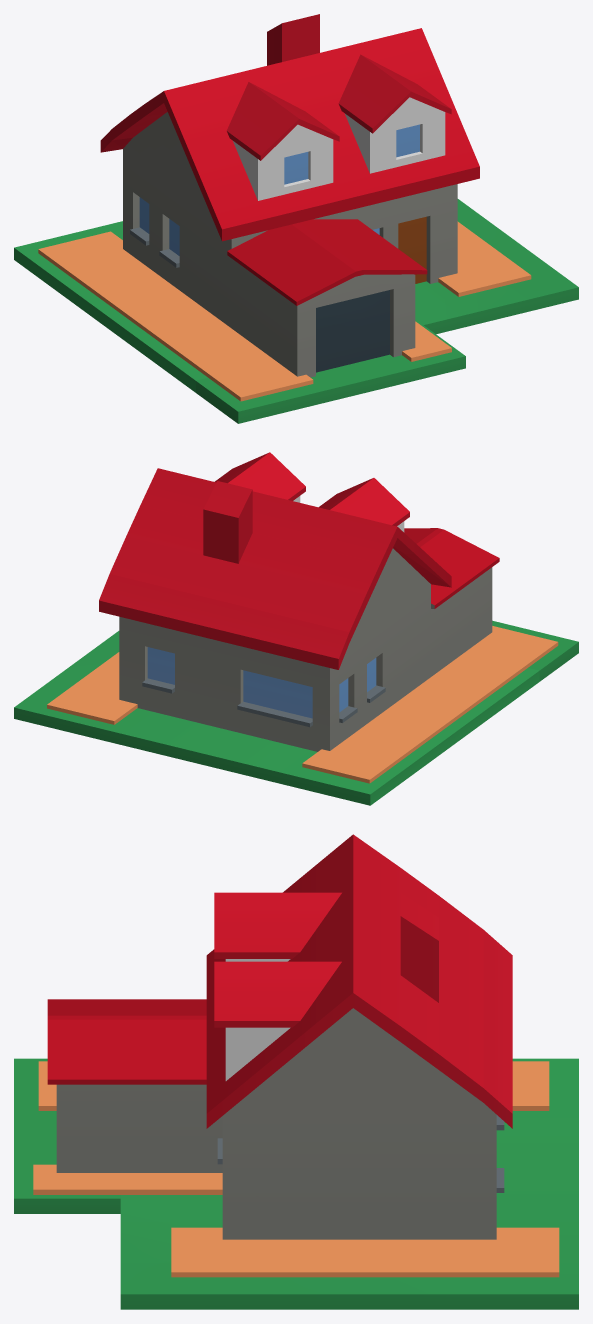
Rendered from Outer House.fbx.
3 renders of one model, top to bottom at view 1: azimuth 30°, elevation 25°; view 2: azimuth 150°, elevation 25°; view 3: azimuth 270°, elevation 25°, orthographic. The views are drawn at different scales.
Parts seen in each view (by area): view 1: Outer_House; view 2: Outer_House; view 3: Outer_House.
Part boxes in pixels (x1=…): Outer_House: x1=14, y1=14, x2=578, y2=423; Outer_House: x1=14, y1=452, x2=578, y2=805; Outer_House: x1=14, y1=834, x2=578, y2=1309.
Size of the model in its own units: 881 by 528 by 893.
Materials: 2 (1 with a texture image).
